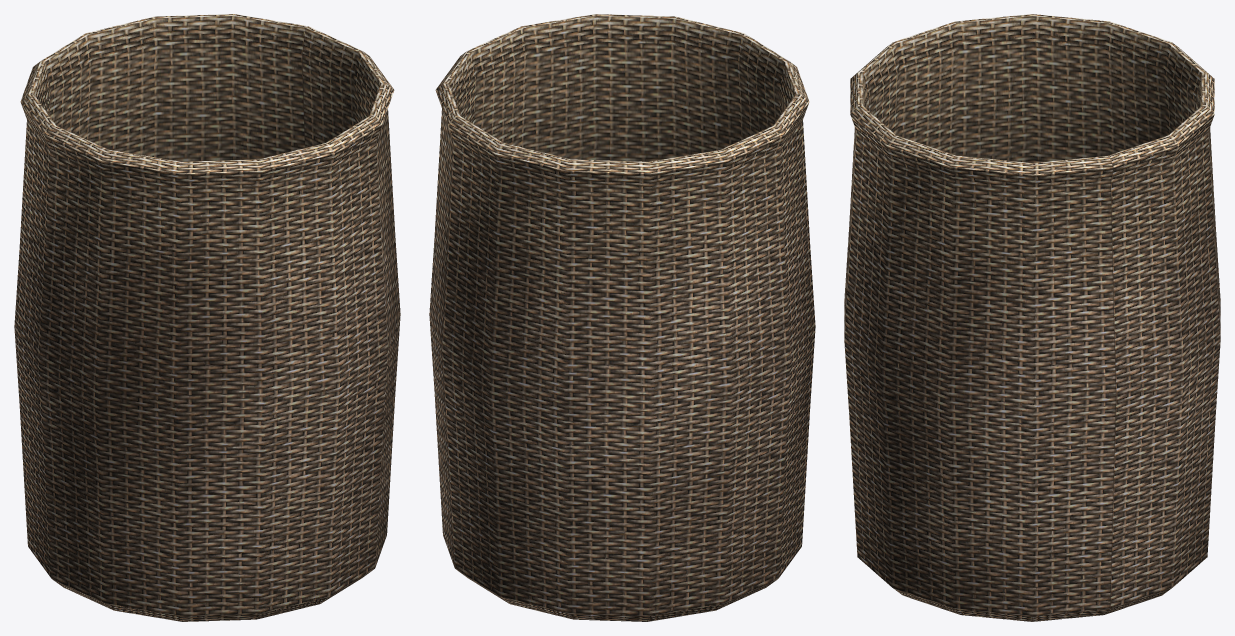
The model's file is basket_LOD0.FBX.
3 views of the same model, side by side, from view 1: azimuth 30°, elevation 25°; view 2: azimuth 150°, elevation 25°; view 3: azimuth 270°, elevation 25° (orthographic).
Visible parts, largest first — view 1: basket_LOD0; view 2: basket_LOD0; view 3: basket_LOD0.
Boxes of the visible parts, x1=… form: basket_LOD0: x1=14, y1=14, x2=400, y2=621; basket_LOD0: x1=429, y1=14, x2=815, y2=621; basket_LOD0: x1=844, y1=14, x2=1220, y2=621.
Bounding box in the file's own units: 52.16 × 68.89 × 50.85.
